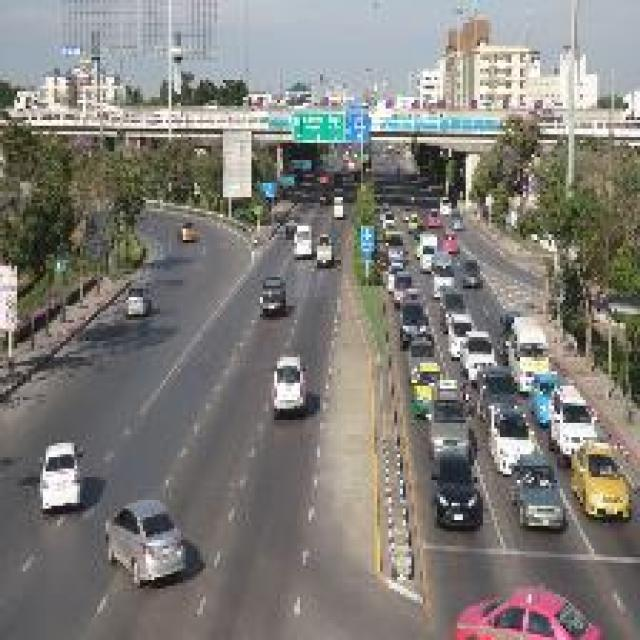other: (548, 420, 632, 517), (453, 586, 603, 634)
